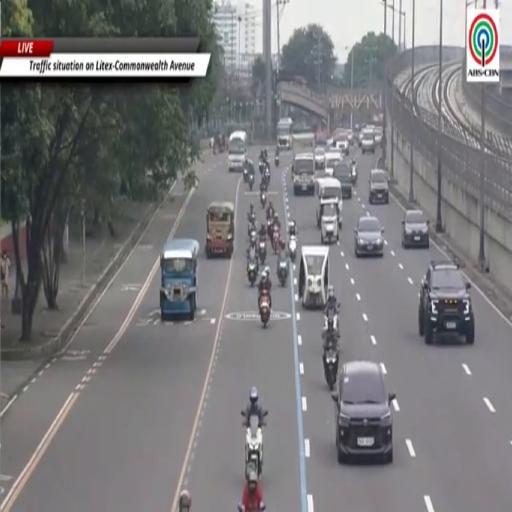car: (332, 361, 395, 463), (419, 261, 474, 344), (354, 217, 384, 258), (402, 210, 429, 248), (369, 169, 389, 204), (325, 149, 342, 175), (358, 125, 374, 147), (361, 132, 376, 154), (337, 135, 349, 155), (315, 148, 325, 169), (374, 127, 383, 146), (346, 130, 354, 145)
jeepney: (160, 238, 199, 321), (206, 202, 234, 258), (316, 178, 342, 229), (292, 153, 315, 195), (228, 131, 247, 171)
motorcycle: (246, 415, 263, 477), (323, 340, 339, 391), (323, 308, 339, 339), (259, 292, 270, 327), (277, 259, 288, 287), (247, 261, 258, 286), (272, 226, 280, 253), (238, 504, 266, 511), (289, 235, 296, 262), (259, 240, 266, 264), (351, 163, 358, 186), (262, 165, 270, 185), (267, 213, 273, 239), (247, 222, 256, 238), (249, 224, 257, 239), (248, 174, 254, 190), (248, 211, 256, 223), (260, 191, 266, 207), (259, 159, 265, 175), (243, 166, 248, 183), (275, 156, 279, 167)
truck: (292, 132, 316, 155), (277, 118, 293, 150)
